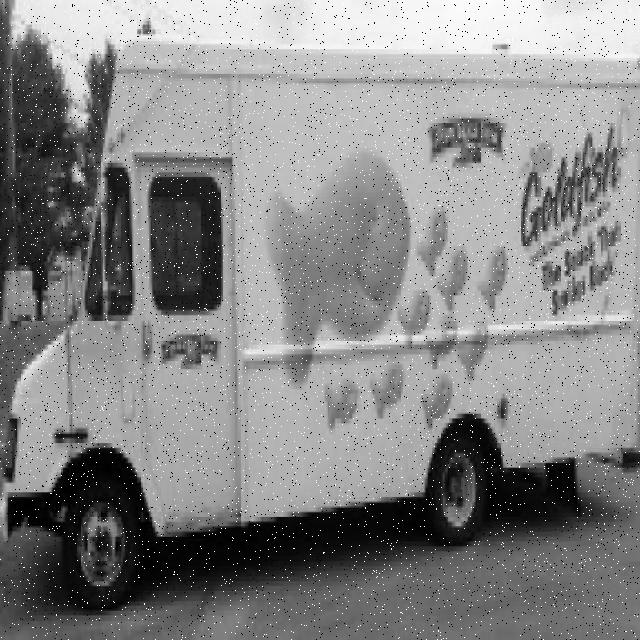Box Truck: (0, 36, 640, 613)
